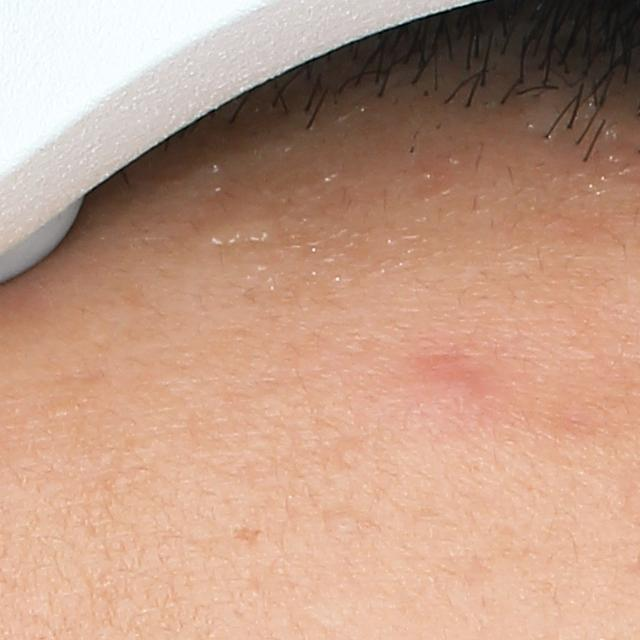comedo: (333, 513, 359, 534)
